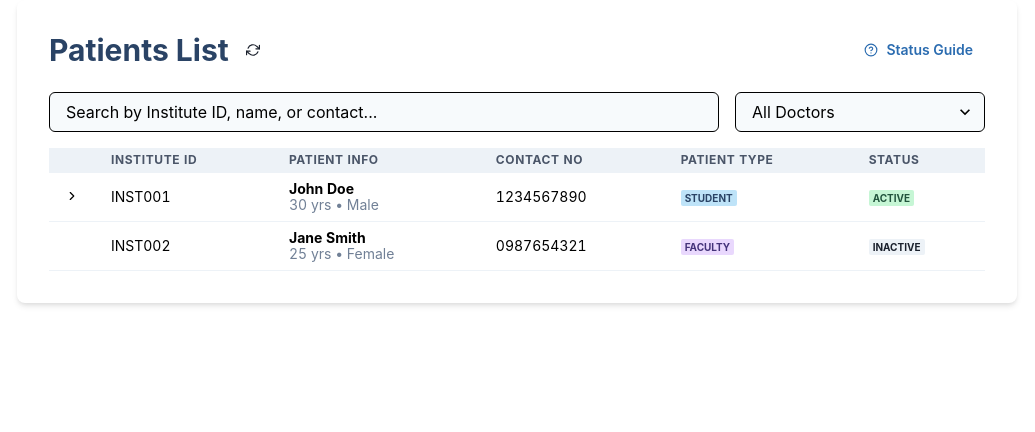
Test: PatientsList Component › handles row toggling
expect the text "John Doe" is shown: met, box [289,180,354,197]
Click the text "John Doe" at (517,197), box [49,172,985,222]
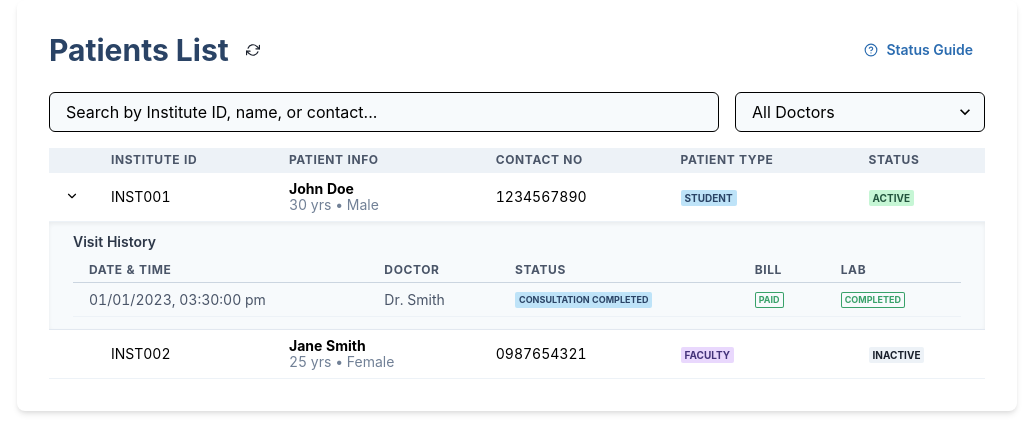
expect the text "Visit History" is shown: met, box [73,233,156,250]
Click the text "John Doe" at (517,197), box [49,172,985,222]
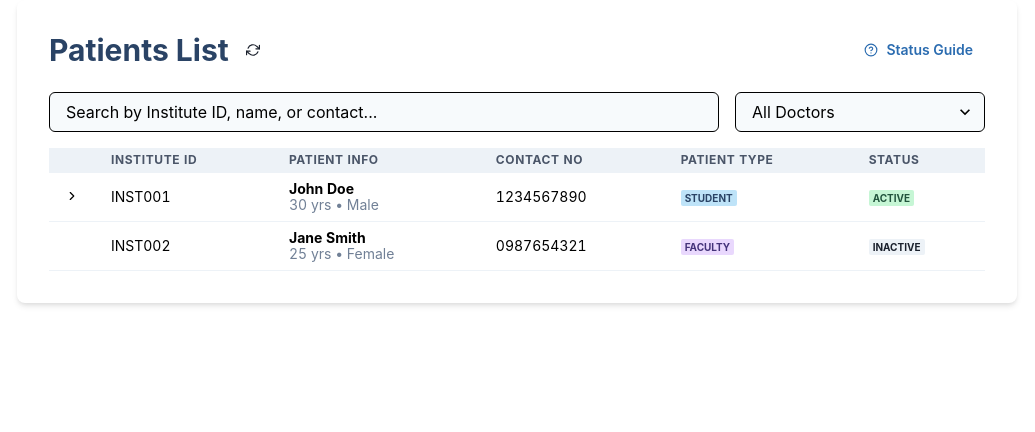
expect the text "Visit History" is gone: met
